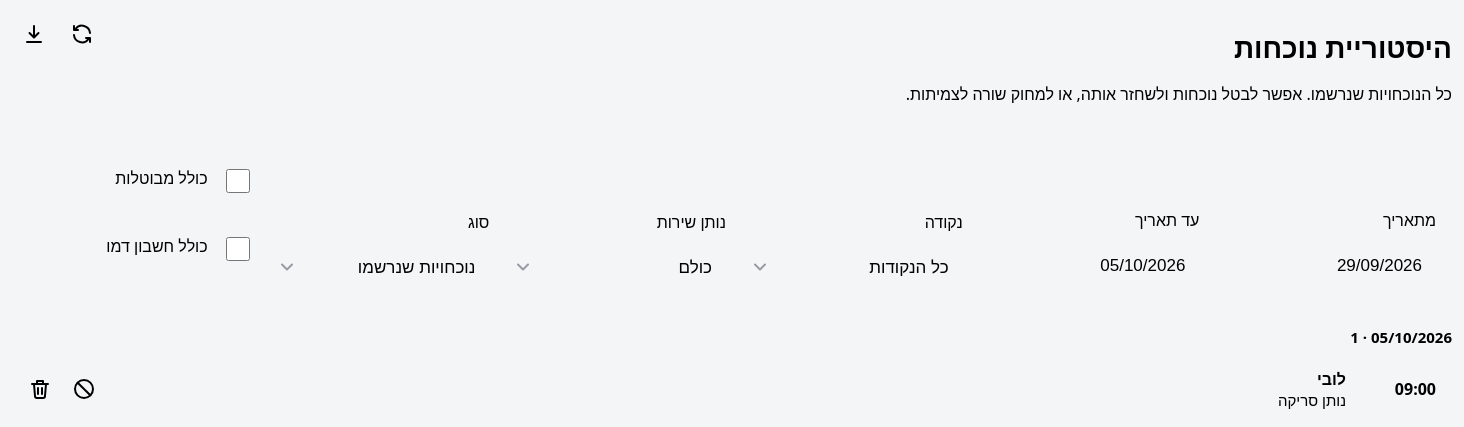
Scenario: a row of a visit that was not counted › writes the time that the phone scanned as DD/MM/YYYY HH:MM, for a visit from the queue
The image size is (1464, 427).
Check: the text "נותן סריקה" is shown, box x1=1278 y1=390 x2=1346 y2=410
Select "לא נקלטו" in the dropdown labelled "סוג" at [377, 267], box x1=265 y1=241 x2=489 y2=293
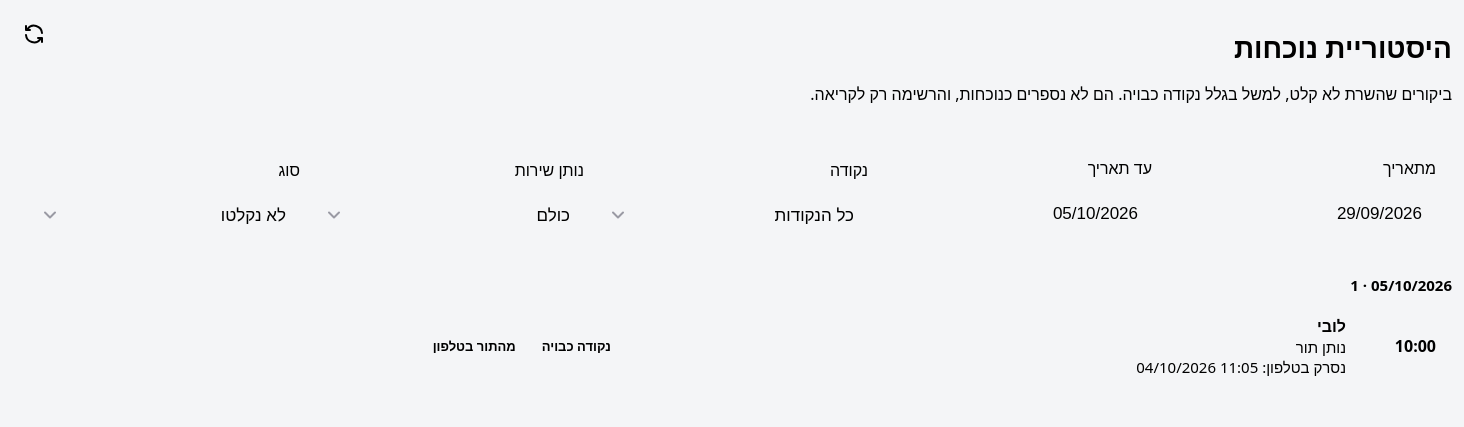
Check: the text "נסרק בטלפון: 04/10/2026 11:05" is shown, box x1=1136 y1=357 x2=1346 y2=377
Check: the text "04/10/2026 11:05" is shown, box x1=1136 y1=357 x2=1258 y2=377
